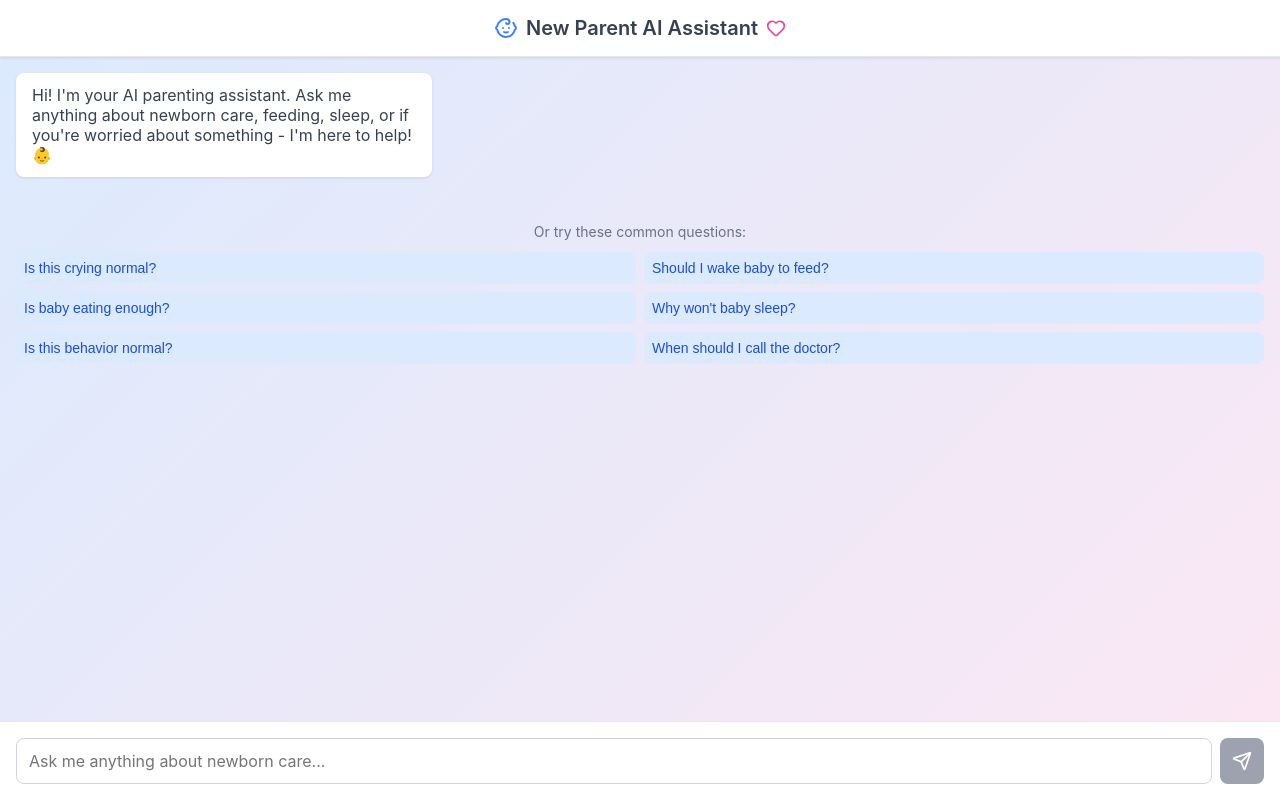
Test: App Component › handles Enter key to send message
In the text box with placeholder "Ask me anything about newborn care...": (614, 761) x1=16 y1=738 x2=1212 y2=784, type "Test message"
Then press Enter
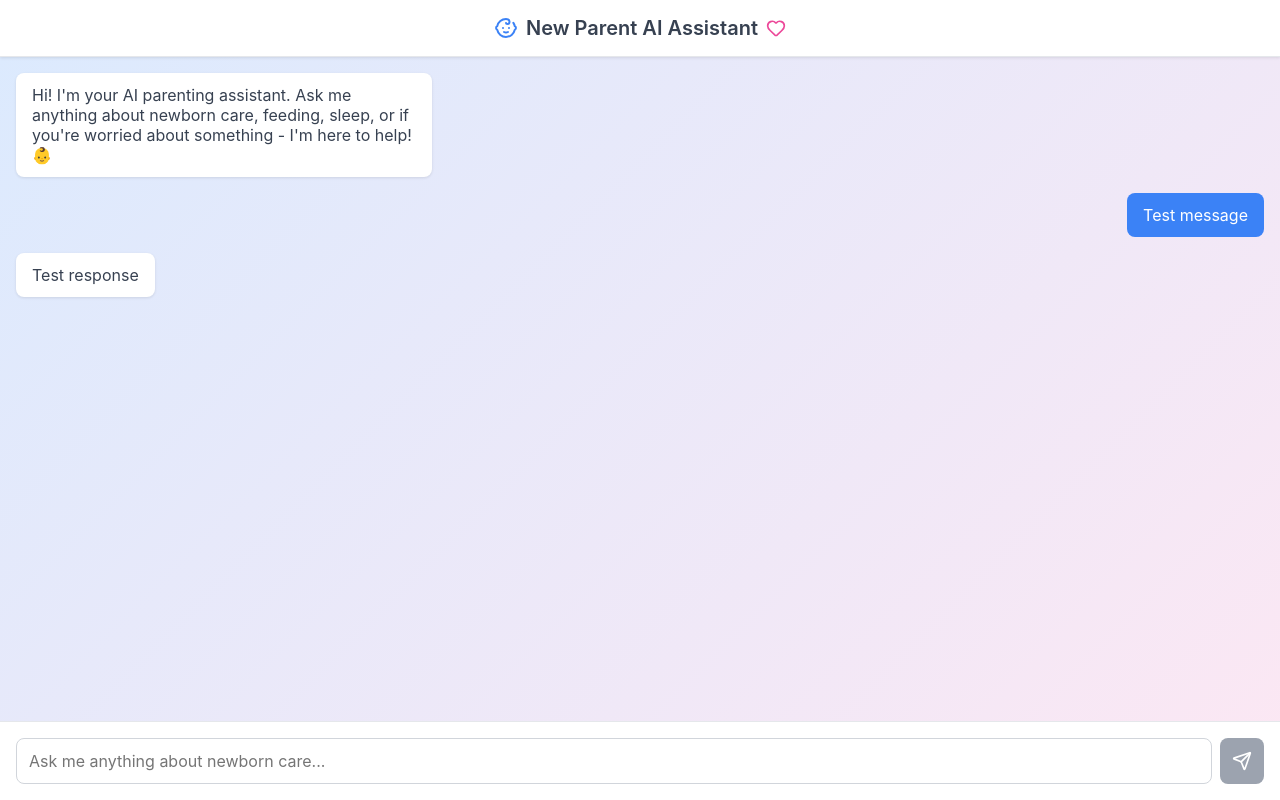
Expected: the text "Test message" is shown, x1=1127 y1=193 x2=1264 y2=237
